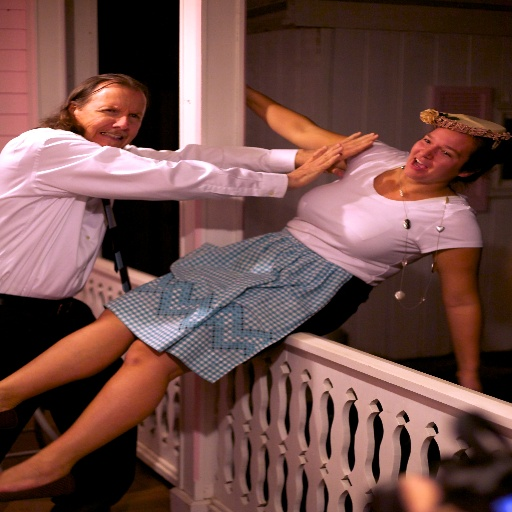hand: (286, 141, 340, 187), (457, 374, 481, 393)
